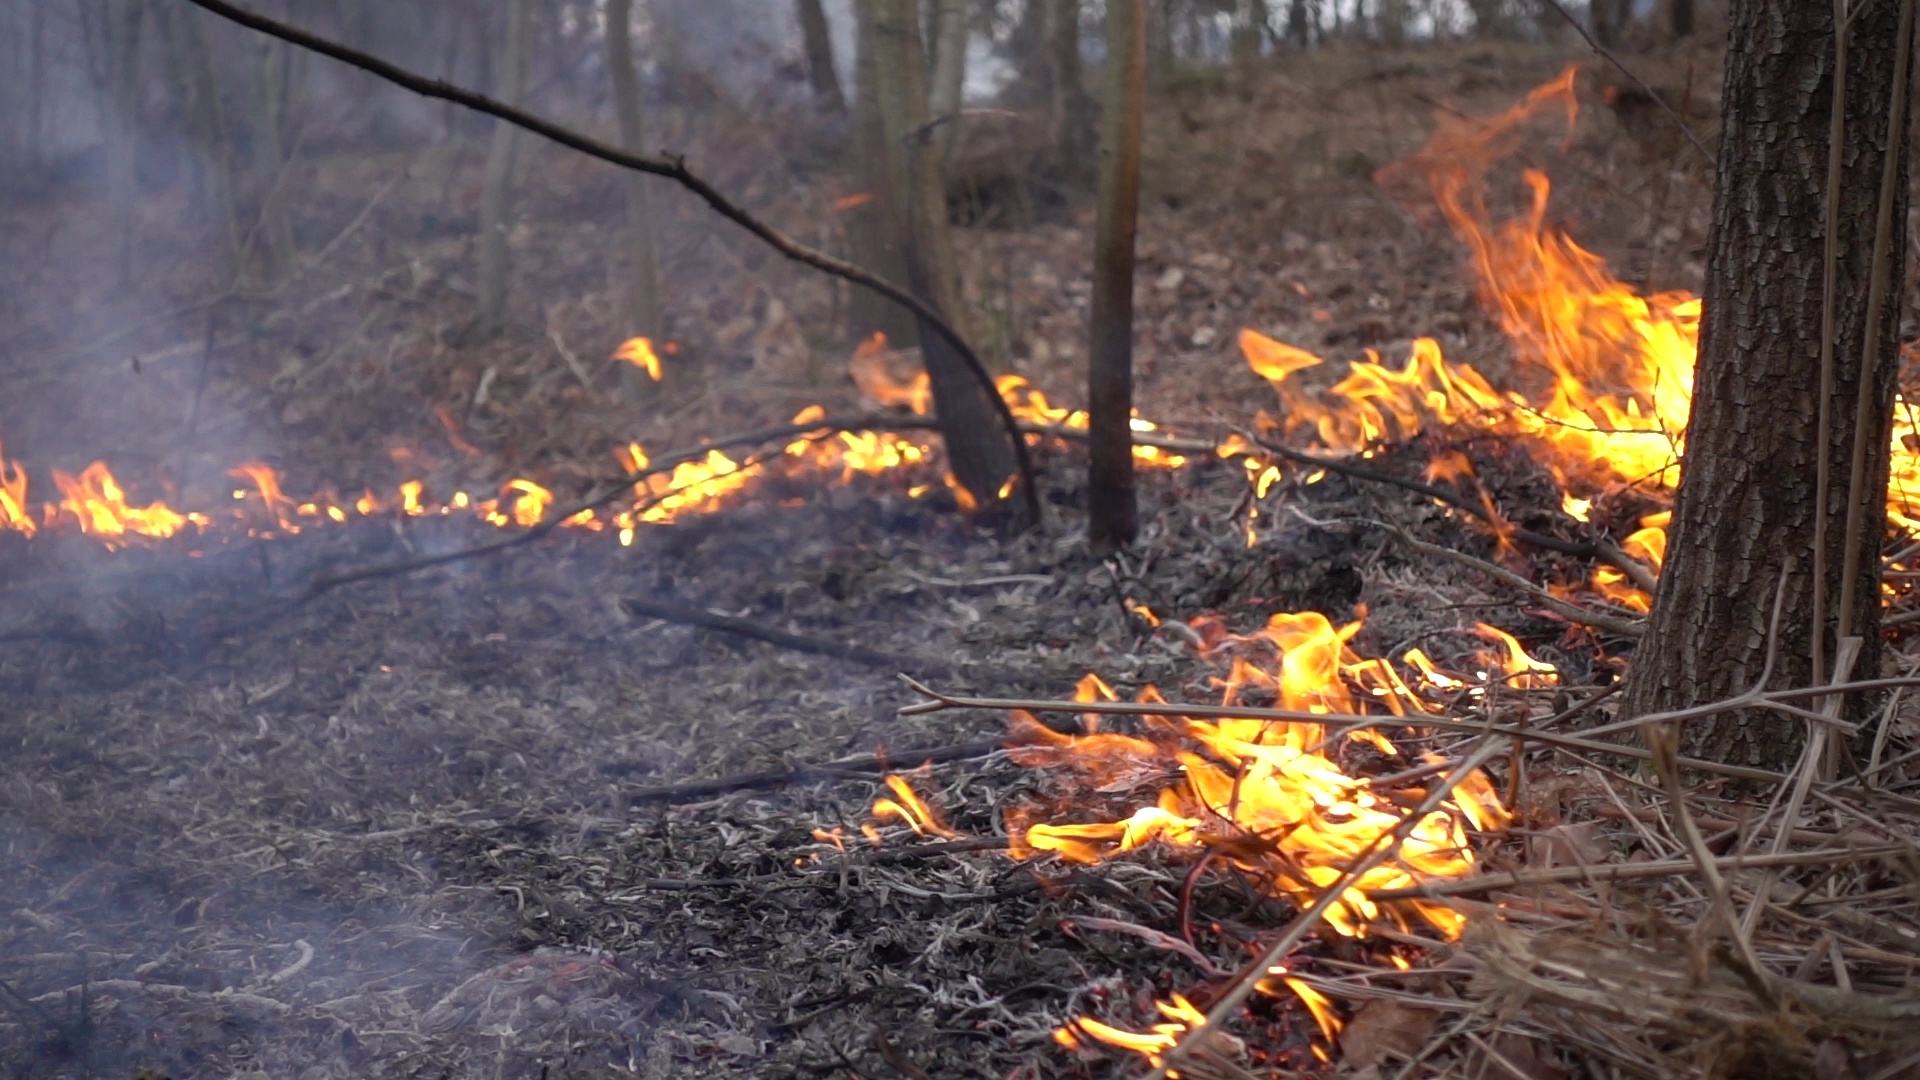fire: (1006, 600, 1539, 1051), (1232, 229, 1698, 592), (1, 463, 547, 547), (607, 443, 752, 542), (795, 421, 924, 469), (1888, 396, 1920, 535), (1005, 378, 1087, 429), (615, 334, 655, 373)
